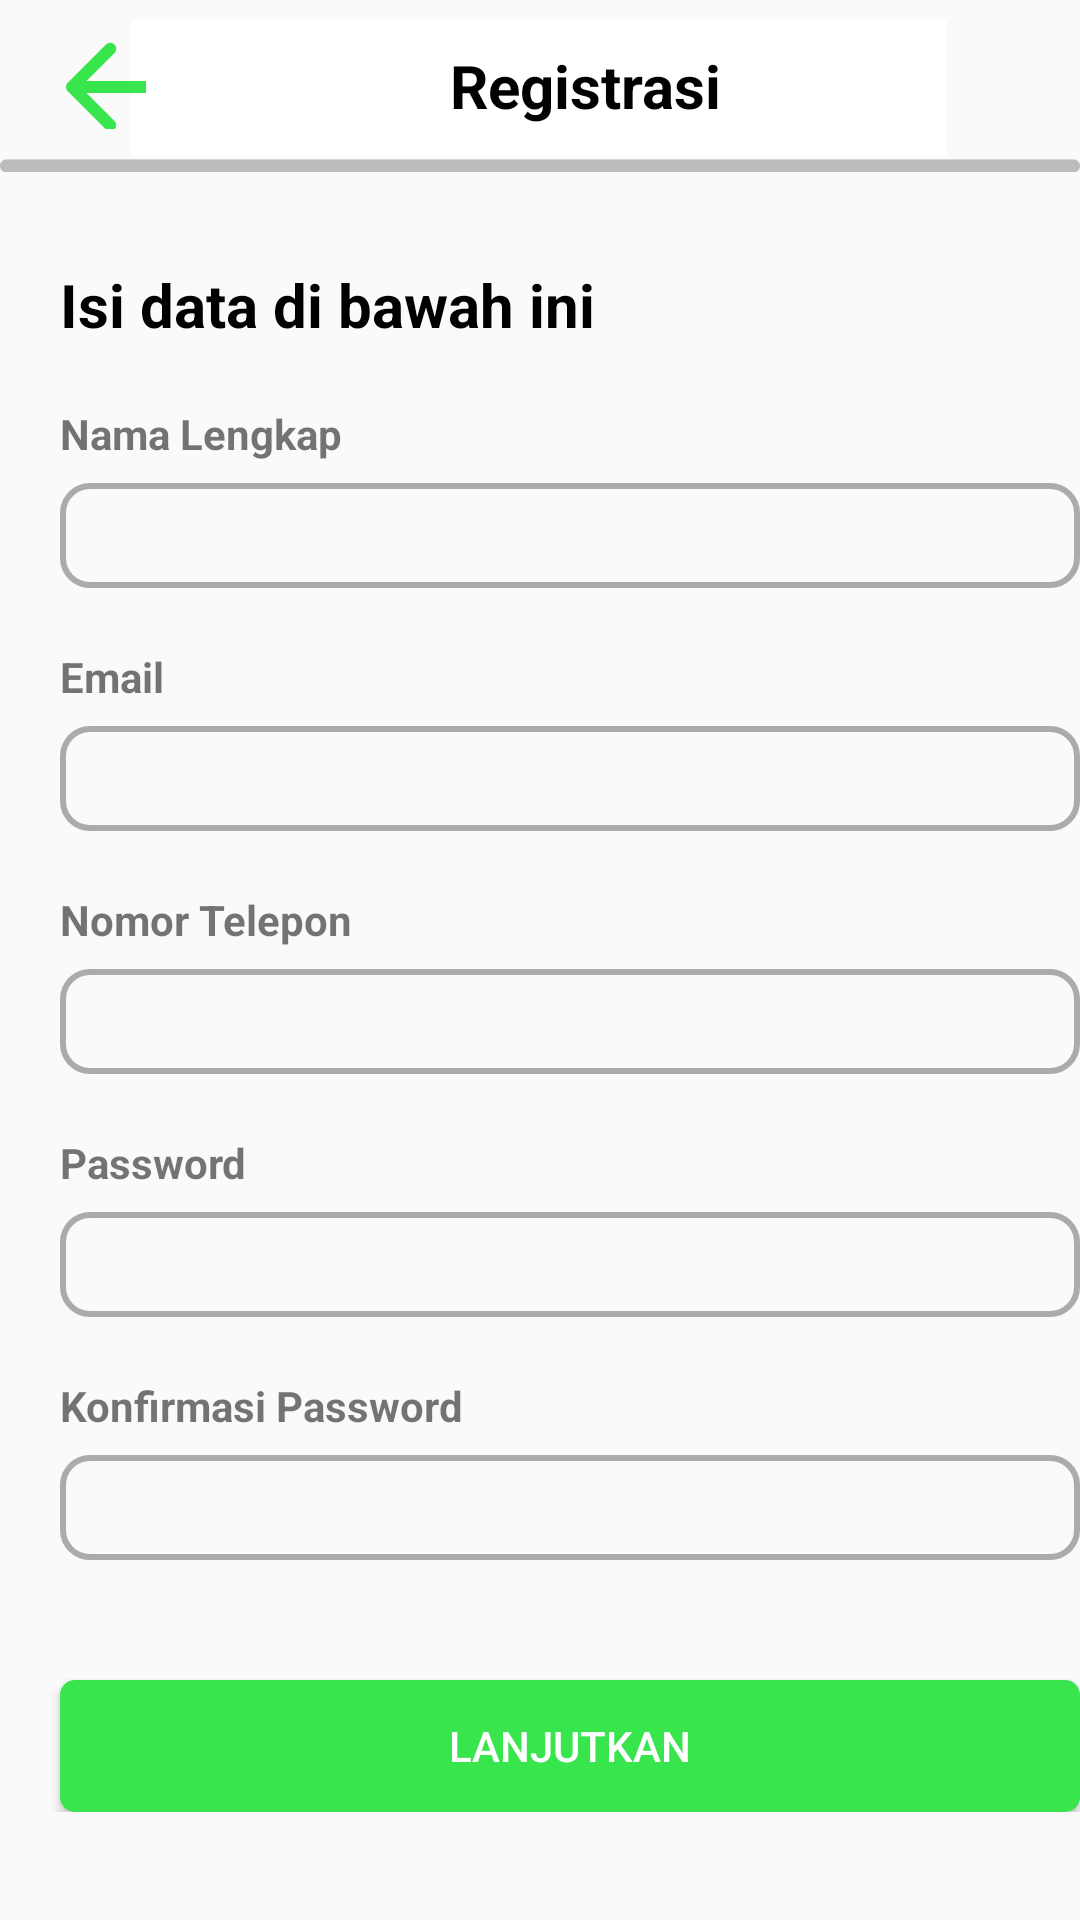

Icons on this 1080w x 1920h Android screen, each with the point to tap as [x,y]:
back: [106,85]
